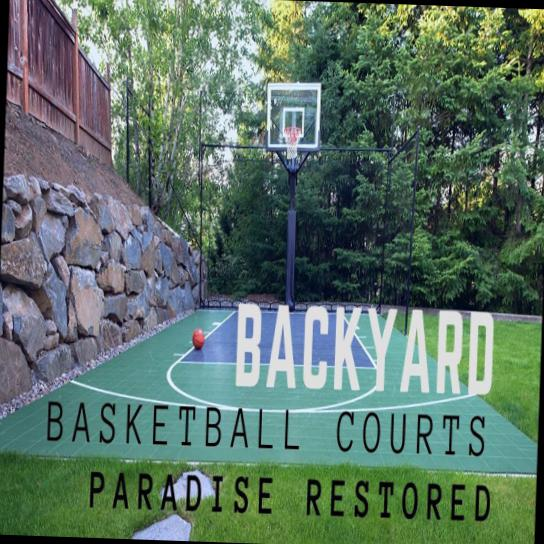basketball-hoop: (282, 126, 302, 162)
